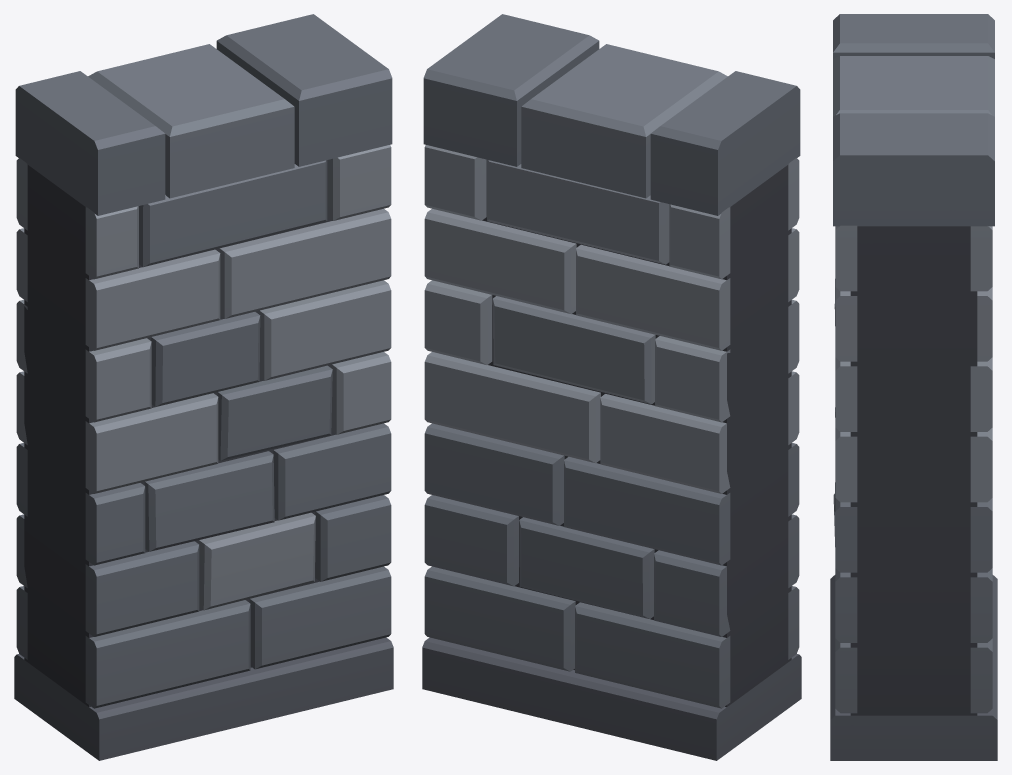
The model's file is wall_ashlar_half_A.glb.
The picture shows the model from 3 angles, left to right: view 1: azimuth 30°, elevation 25°; view 2: azimuth 150°, elevation 25°; view 3: azimuth 270°, elevation 25°; orthographic projection.
Parts seen in each view (by area): view 1: Item; view 2: Item; view 3: Item.
Boxes of the visible parts, <box> form: Item: <box>14,14,393,760</box>; Item: <box>422,14,801,760</box>; Item: <box>830,14,997,760</box>.
Bounding box in the file's own units: 2 × 4 × 1.
1 material, 1 textured.
